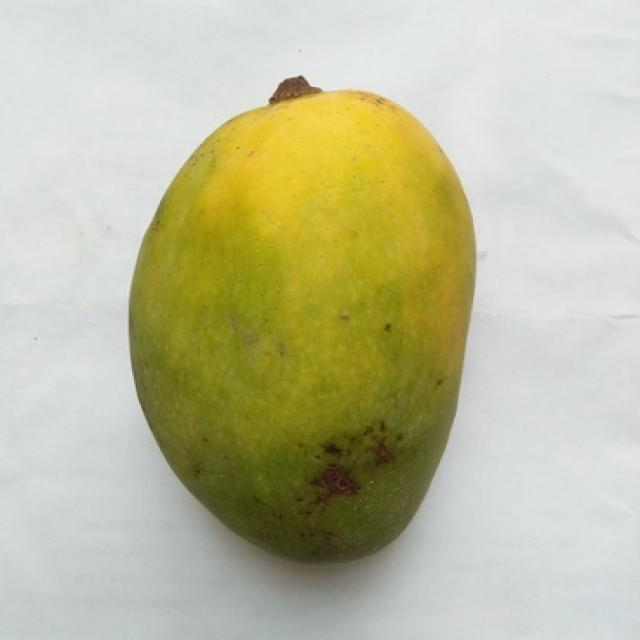Mango: (129, 78, 473, 557)
